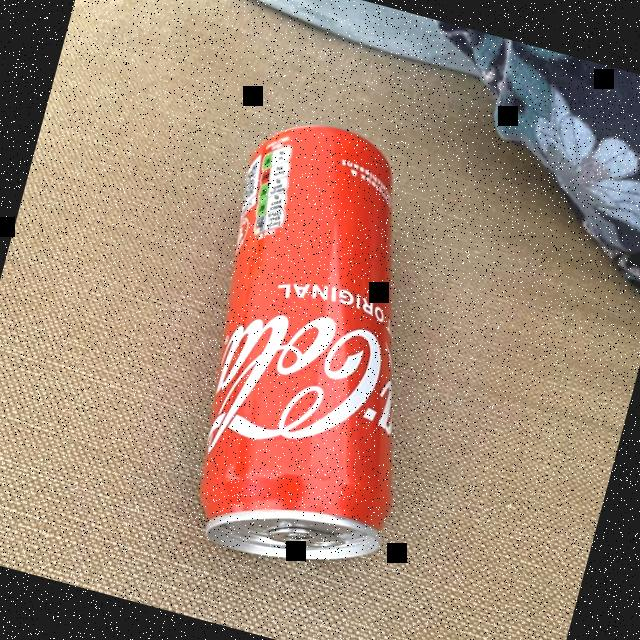can: (127, 92, 512, 606)
